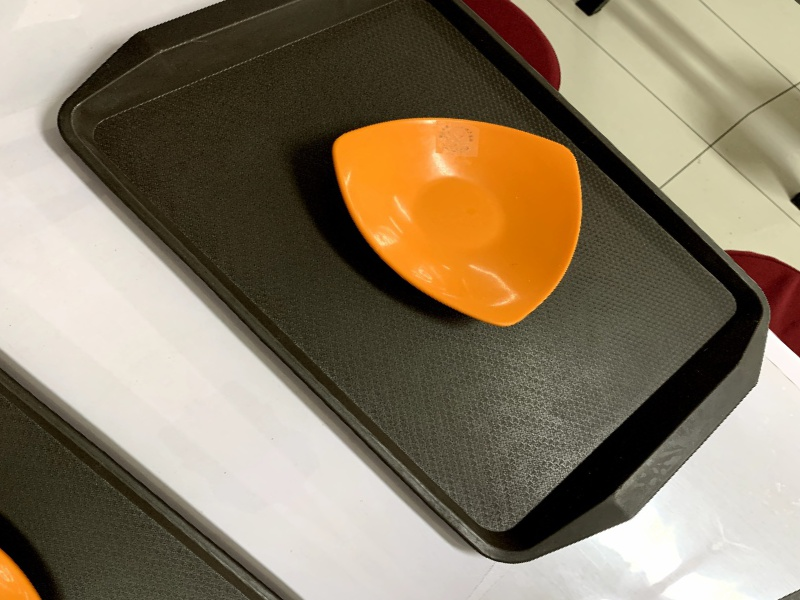dish11: (278, 43, 659, 354)
